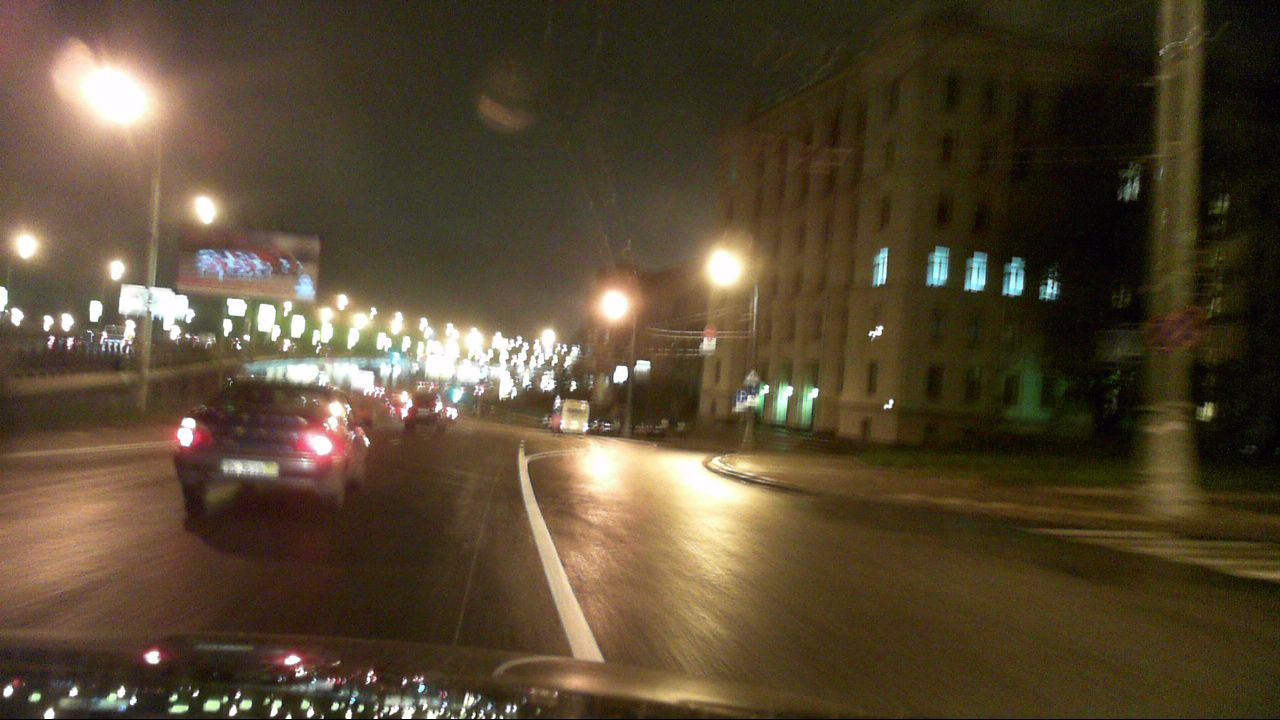No Parking: (1144, 306, 1189, 354)
